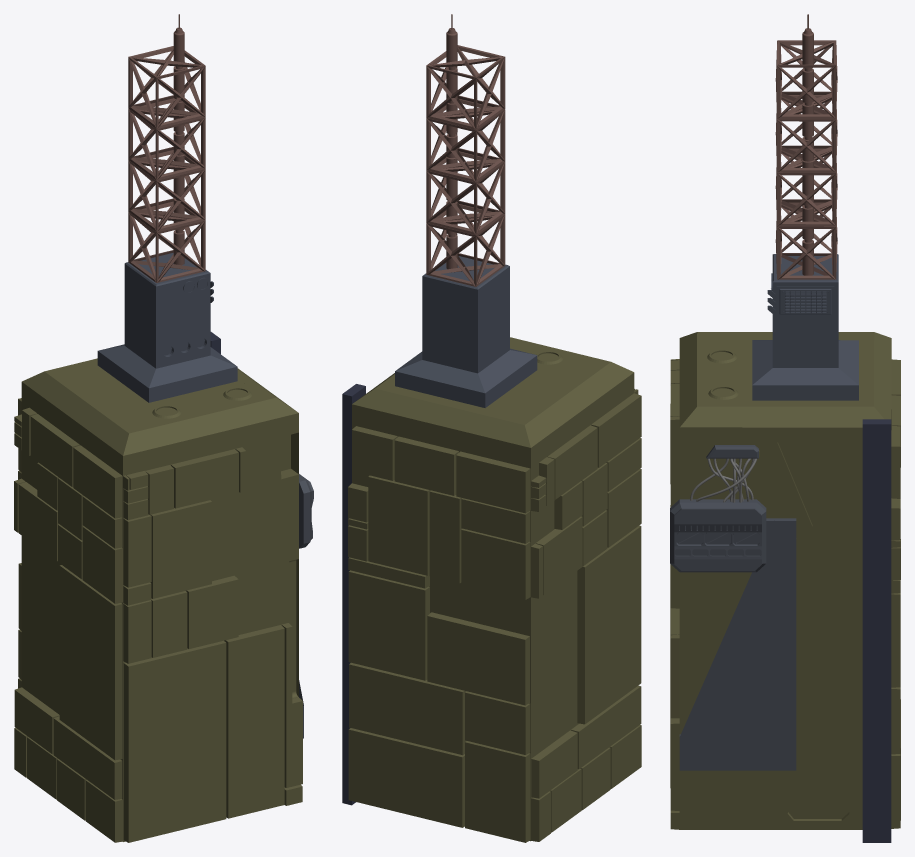
Rendered from 前景大方盒烟囱.fbx.
3 views of the same model, side by side, from view 1: azimuth 30°, elevation 25°; view 2: azimuth 150°, elevation 25°; view 3: azimuth 270°, elevation 25° (orthographic). The views are drawn at different scales.
Visible parts, largest first — view 1: 前景大方盒烟囱; view 2: 前景大方盒烟囱; view 3: 前景大方盒烟囱.
Boxes of the visible parts, left/top/right/bottom form: 前景大方盒烟囱: left=14, top=14, right=313, bottom=842; 前景大方盒烟囱: left=342, top=14, right=641, bottom=842; 前景大方盒烟囱: left=670, top=14, right=900, bottom=842.
Size of the model in its own units: 2.84 by 10.49 by 2.76.
